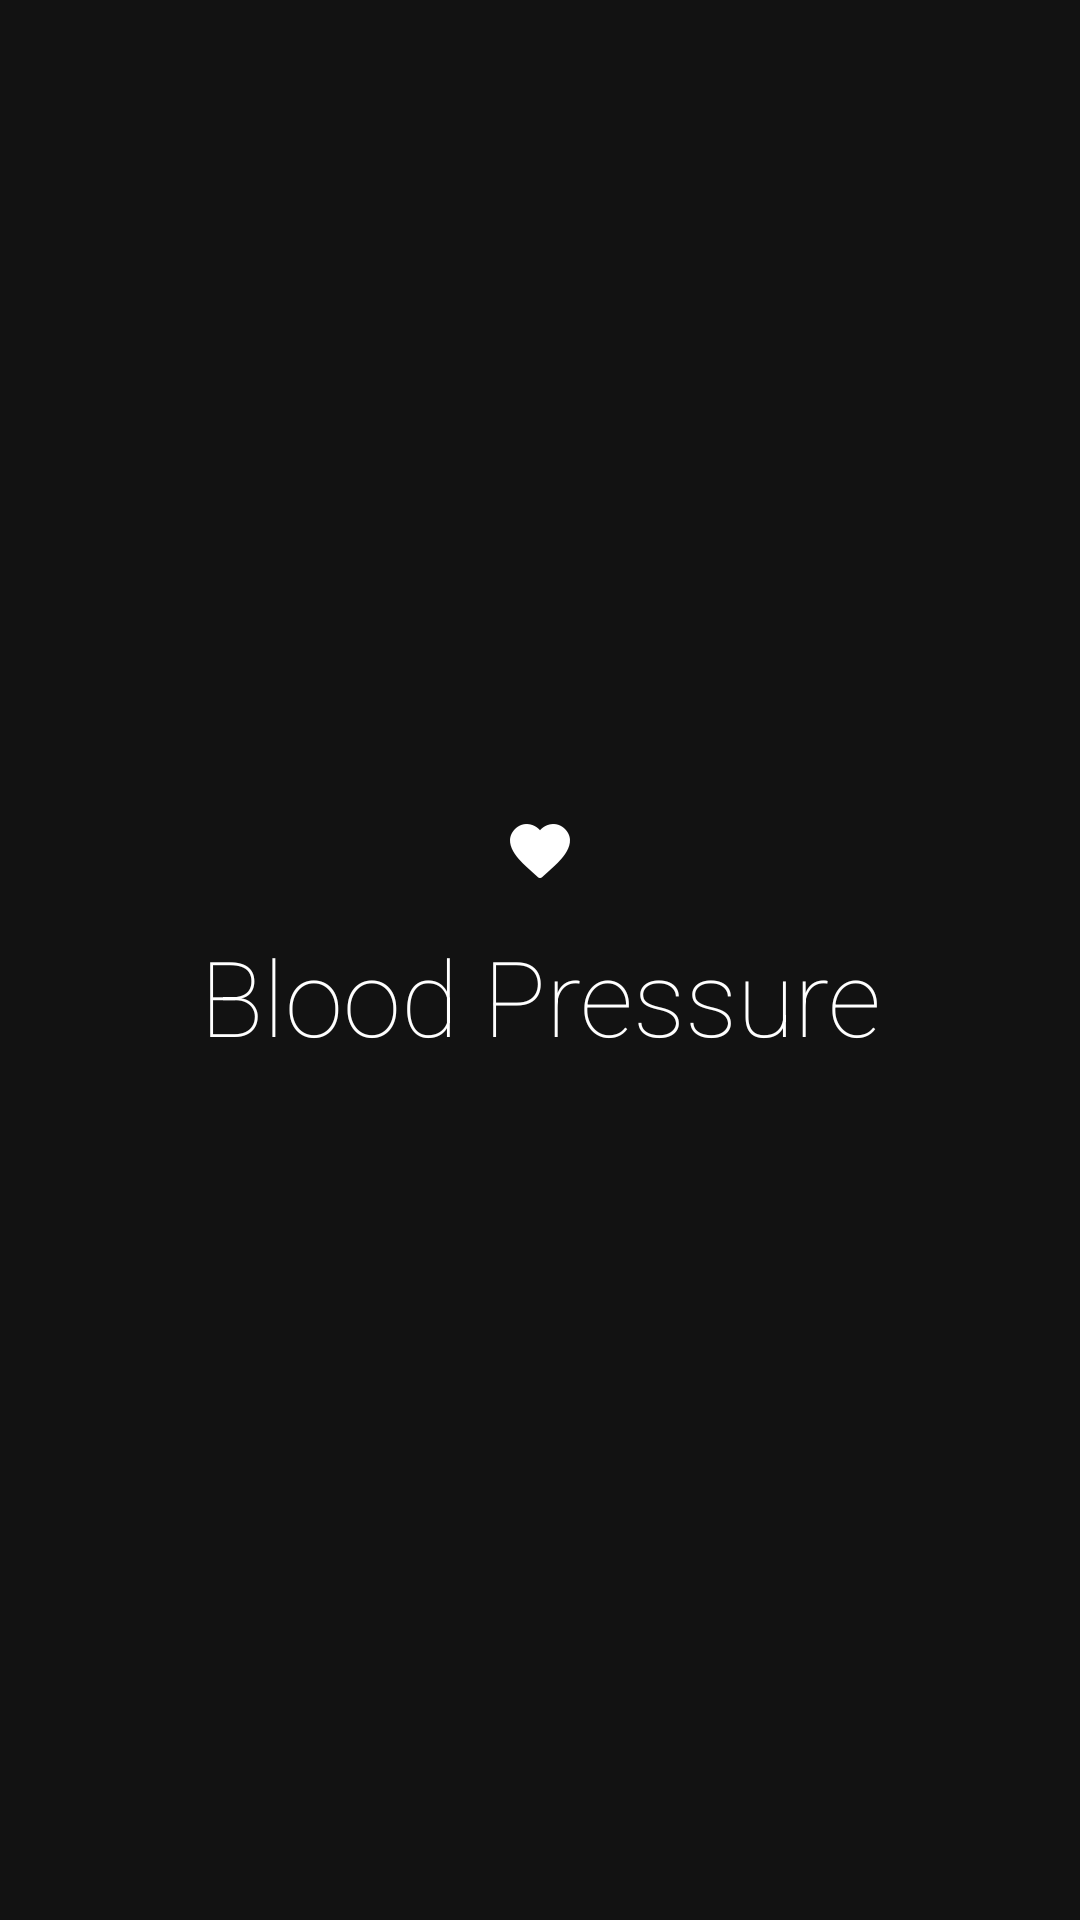

Named icons in this screenshot (1080*1920) and their centers, point (x, y):
heart: point (540, 851)
